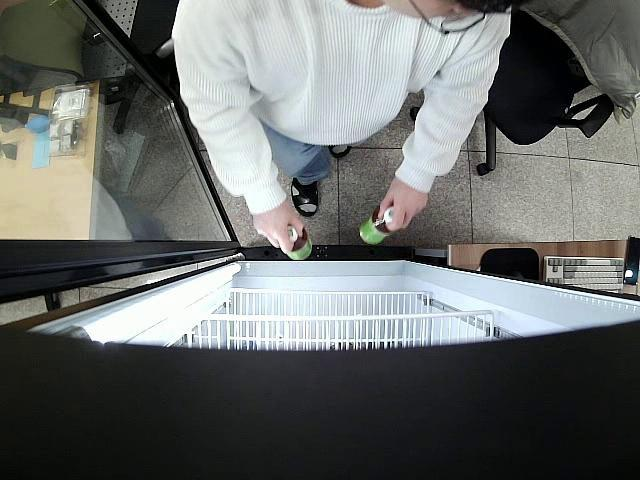19_17cha: (357, 202, 395, 246), (282, 226, 312, 260)
